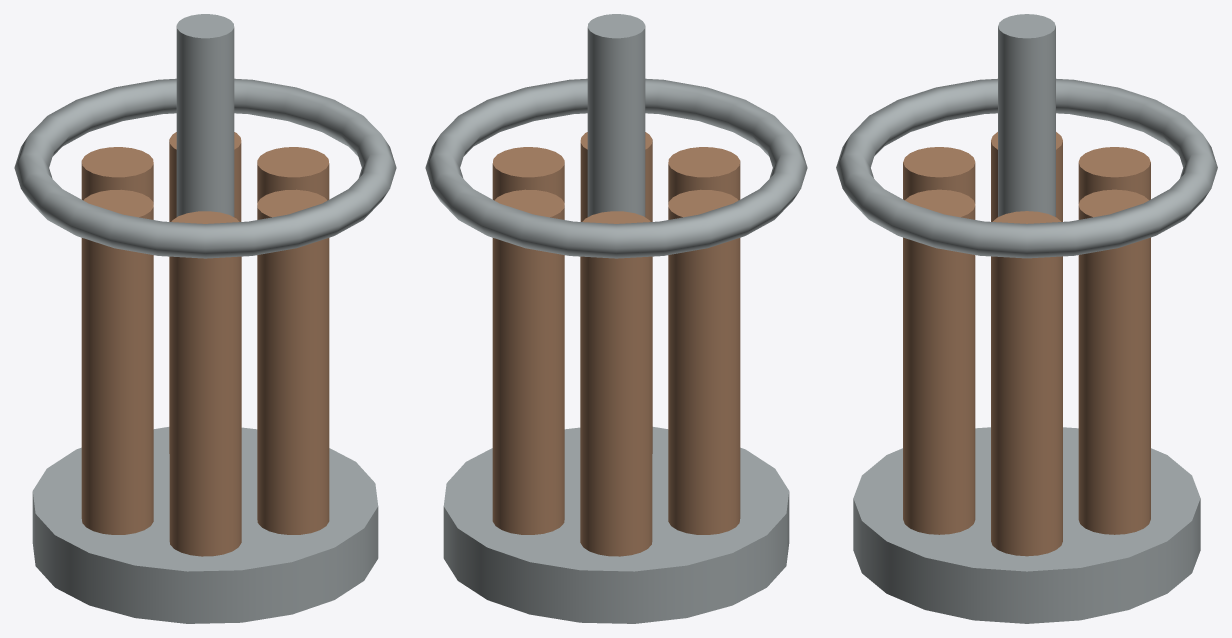
The model's file is salvage-and-repair-workshop-open-motor-74f7cba1__25484.glb.
The picture shows the model from 3 angles, left to right: view 1: azimuth 30°, elevation 25°; view 2: azimuth 150°, elevation 25°; view 3: azimuth 270°, elevation 25°; orthographic projection.
Parts seen in each view (by area): view 1: open-motor; view 2: open-motor; view 3: open-motor.
Boxes of the visible parts, x1=… form: open-motor: x1=14, y1=14, x2=396, y2=623; open-motor: x1=425, y1=14, x2=807, y2=623; open-motor: x1=836, y1=14, x2=1217, y2=623.
Bounding box in the file's own units: 0.264 × 0.4 × 0.264.
